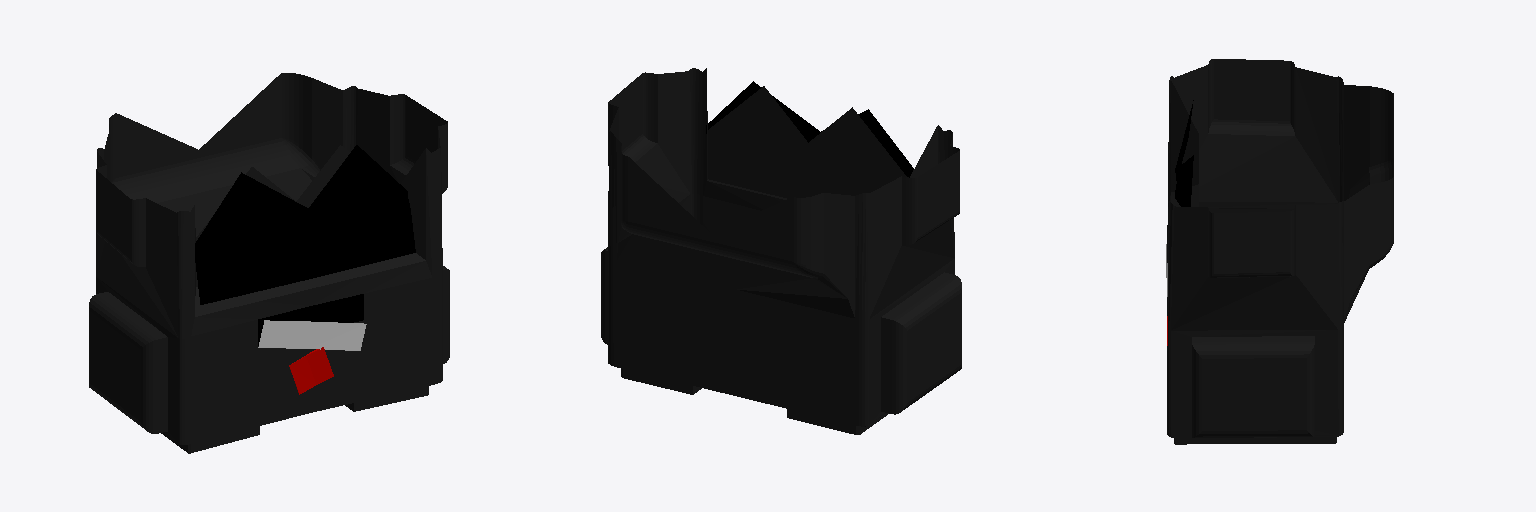
The model's file is monitor_model_broken.obj.
3 views of the same model, side by side, from view 1: azimuth 30°, elevation 25°; view 2: azimuth 150°, elevation 25°; view 3: azimuth 270°, elevation 25° (orthographic).
Visible parts, largest first — view 1: BrokenMonitor; view 2: BrokenMonitor; view 3: BrokenMonitor.
Boxes of the visible parts, x1=… form: BrokenMonitor: x1=89, y1=73, x2=449, y2=453; BrokenMonitor: x1=601, y1=68, x2=961, y2=434; BrokenMonitor: x1=1166, y1=59, x2=1393, y2=444.
Bounding box in the file's own units: 2.55 × 2 × 1.59.